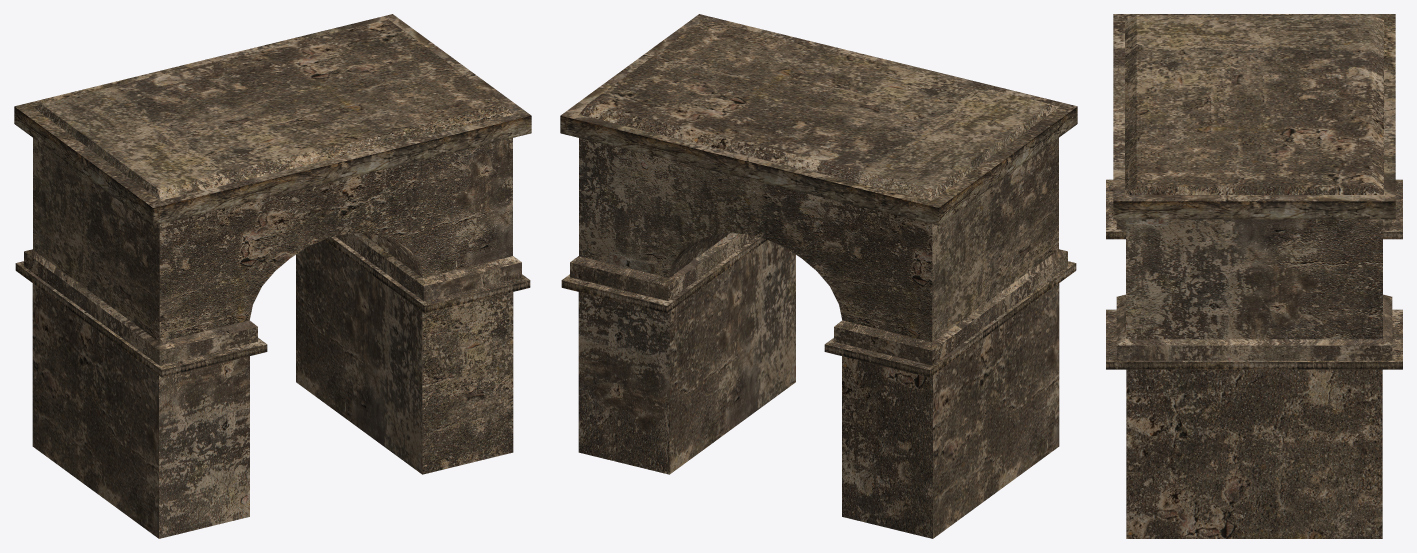
Rendered from materials_5_gate_16.fbx.
3 views of the same model, side by side, from view 1: azimuth 30°, elevation 25°; view 2: azimuth 150°, elevation 25°; view 3: azimuth 270°, elevation 25° (orthographic).
Parts seen in each view (by area): view 1: materials_5_gate_16; view 2: materials_5_gate_16; view 3: materials_5_gate_16.
Boxes of the visible parts, x1,y1,x2,y2 form: materials_5_gate_16: (14,14,531,538); materials_5_gate_16: (560,14,1077,538); materials_5_gate_16: (1106,14,1402,538).
Bounding box in the file's own units: 371 × 323 × 248.
